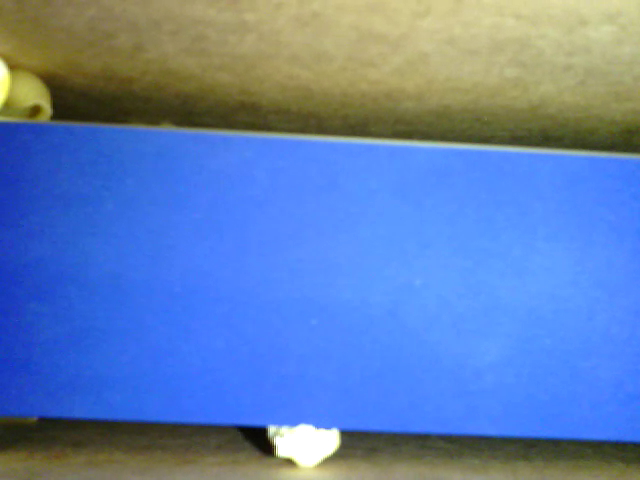shell: (3, 67, 58, 127)
